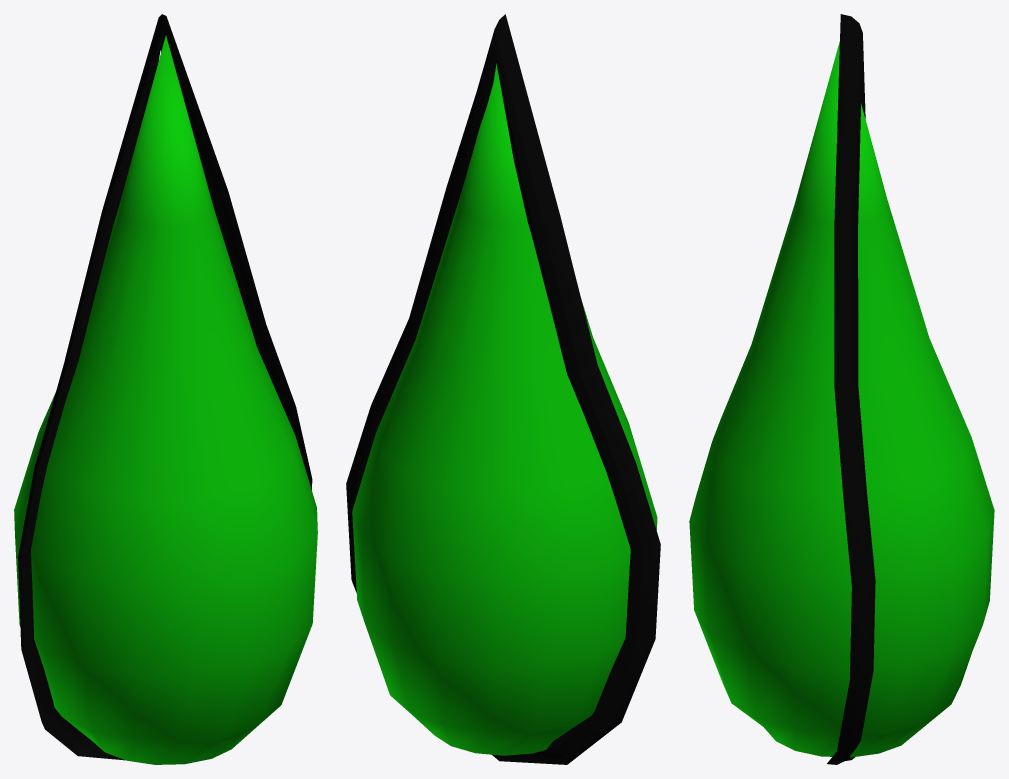
Rendered from Green.fbx.
3 renders of one model, left to right at view 1: azimuth 30°, elevation 25°; view 2: azimuth 150°, elevation 25°; view 3: azimuth 270°, elevation 25°, orthographic.
Visible parts, largest first — view 1: LineArt.004; view 2: LineArt.004; view 3: LineArt.004.
Boxes of the visible parts, x1,y1,x2,y2 form: LineArt.004: (14, 14, 317, 764); LineArt.004: (346, 14, 660, 764); LineArt.004: (689, 14, 994, 764).
Size of the model in its own units: 10.19 by 24.17 by 8.96.
